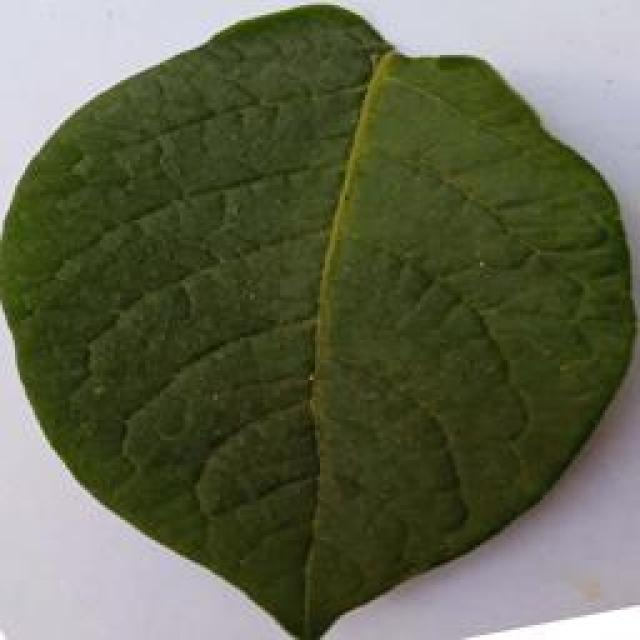Potato_Healthy: (1, 4, 626, 634)
